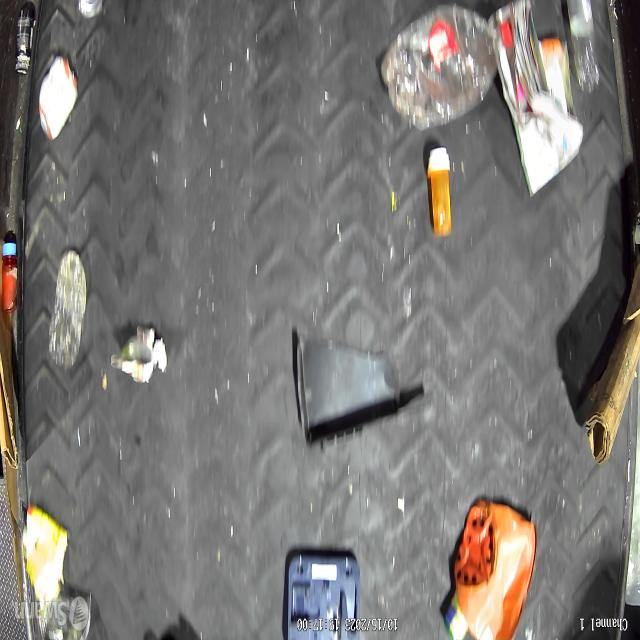can: (512, 28, 584, 200), (489, 0, 549, 132), (36, 56, 80, 142), (108, 333, 157, 385)
plastic_bottle: (378, 5, 512, 136), (48, 248, 88, 376), (566, 0, 602, 96)
